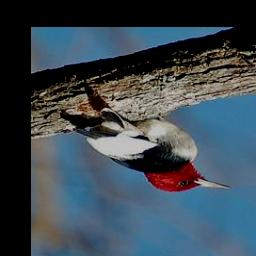Woodpecker: (71, 106, 235, 193)
